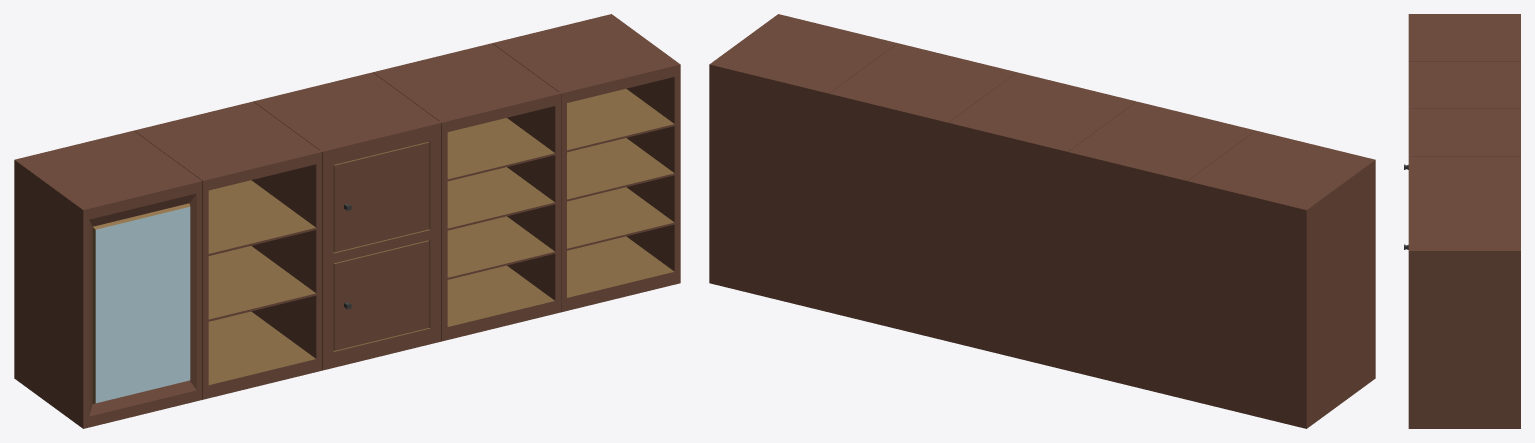
File: szafy.fbx
The picture shows the model from 3 angles, left to right: view 1: azimuth 30°, elevation 25°; view 2: azimuth 150°, elevation 25°; view 3: azimuth 270°, elevation 25°; orthographic projection. The views are drawn at different scales.
Parts seen in each view (by area): view 1: szafy; view 2: szafy; view 3: szafy.
Boxes of the visible parts, x1,y1,x2,y2 form: szafy: [14, 14, 680, 428]; szafy: [709, 14, 1375, 428]; szafy: [1404, 14, 1520, 428].
Size of the model in its own units: 357 by 74.48 by 125.
